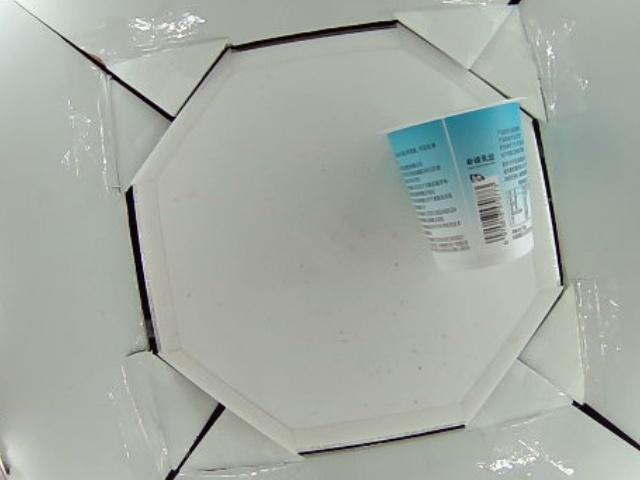Cup: (381, 96, 538, 271)
